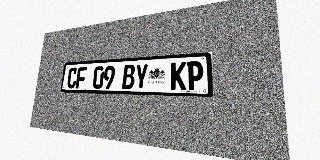0: (92, 66, 104, 89)
9: (103, 65, 115, 89)
B: (122, 64, 135, 89)
C: (67, 67, 78, 88)
F: (75, 67, 87, 89)
K: (170, 62, 186, 90)
P: (187, 61, 203, 90)
Y: (134, 64, 148, 89)
